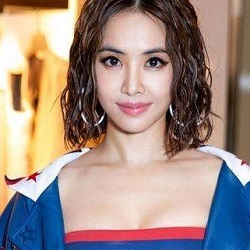unmask: (88, 33, 177, 133)
